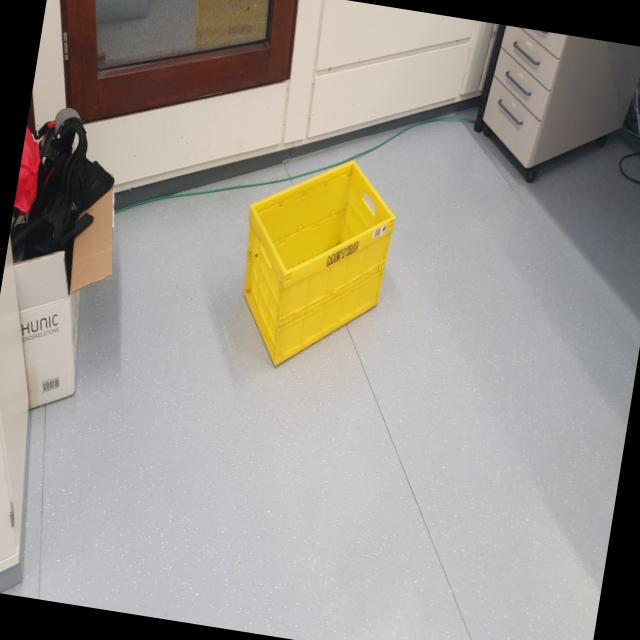box: (220, 135, 407, 396)
